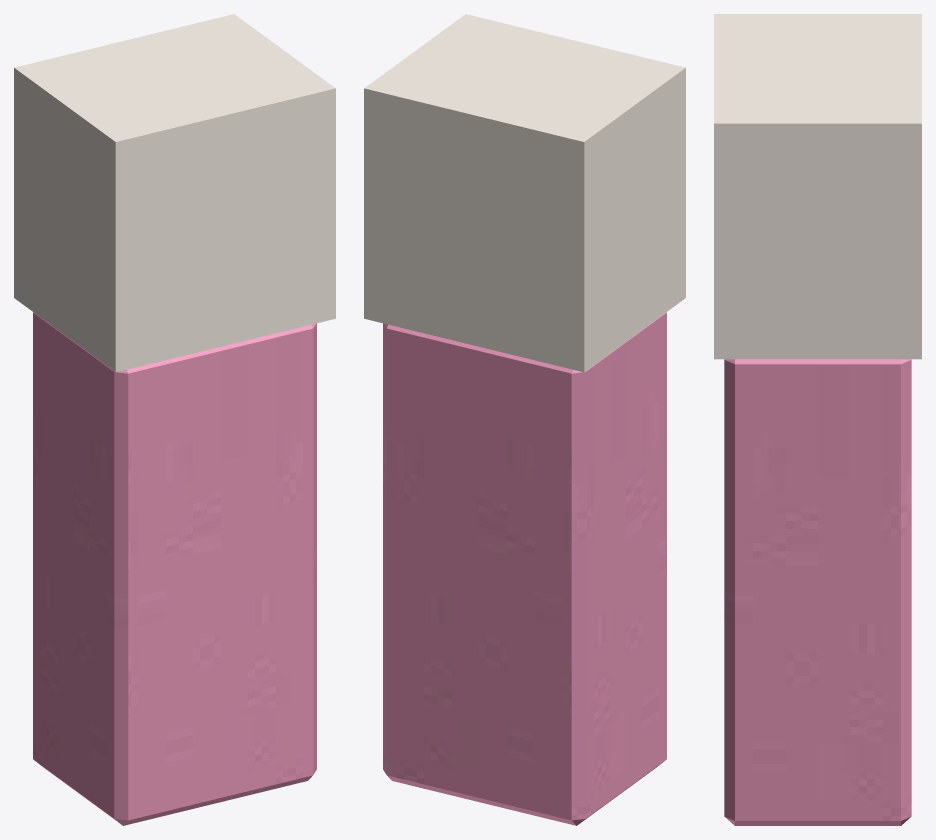
3 renders of one model, left to right at view 1: azimuth 30°, elevation 25°; view 2: azimuth 150°, elevation 25°; view 3: azimuth 270°, elevation 25°, orthographic. The views are drawn at different scales.
Visible parts, largest first — view 1: Decor_gum_stand; view 2: Decor_gum_stand; view 3: Decor_gum_stand.
Part boxes in pixels (box(x1,y1,x2,y2)): Decor_gum_stand: box(14, 14, 335, 825); Decor_gum_stand: box(364, 14, 685, 825); Decor_gum_stand: box(714, 14, 921, 825).
Size of the model in its own units: 0.5 by 1.51 by 0.4.
2 materials, 2 textured.
